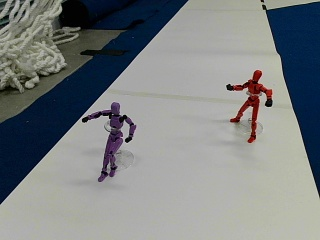pedestrian: (82, 100, 135, 179), (226, 68, 273, 140)
